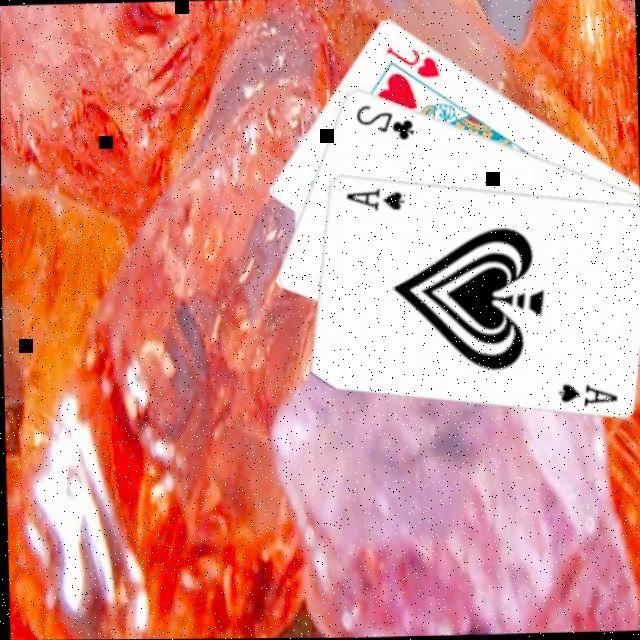2C: (352, 99, 418, 144)
AS: (554, 378, 621, 409), (343, 182, 409, 213)
JH: (383, 40, 444, 81)
